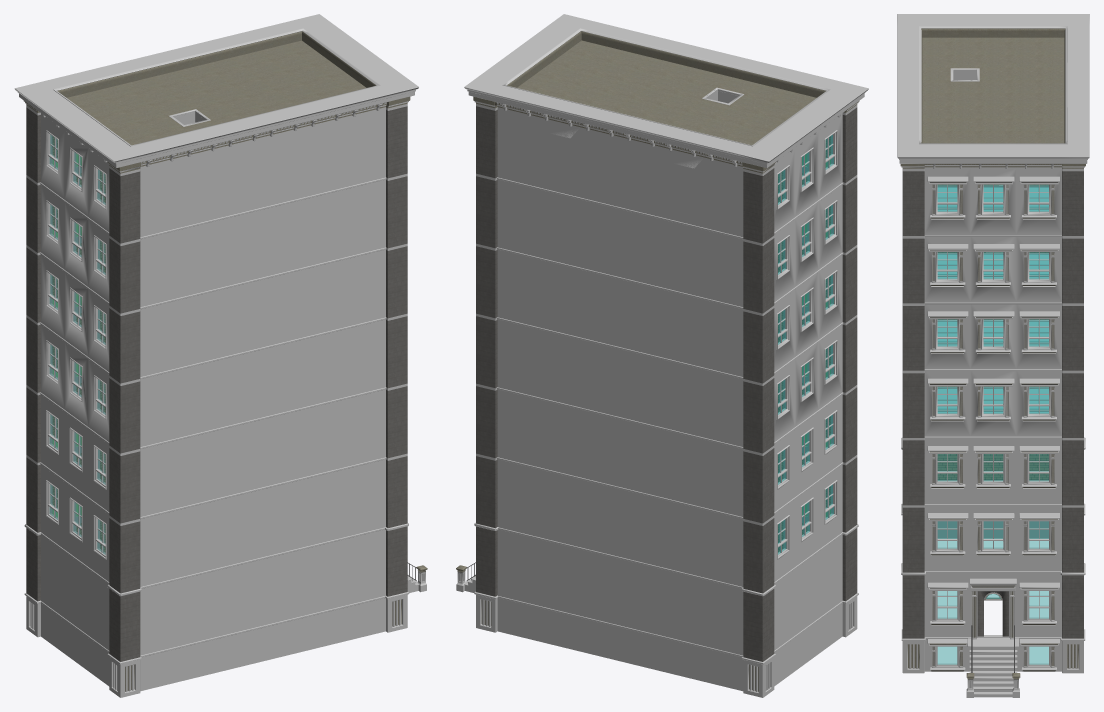
File: Building07_V02.fbx
The picture shows the model from 3 angles, left to right: view 1: azimuth 30°, elevation 25°; view 2: azimuth 150°, elevation 25°; view 3: azimuth 270°, elevation 25°; orthographic projection. The views are drawn at different scales.
Parts seen in each view (by area): view 1: SM_Building07_V02; view 2: SM_Building07_V02; view 3: SM_Building07_V02.
Boxes of the visible parts, bbox=[...] form: SM_Building07_V02: bbox=[14, 14, 427, 697]; SM_Building07_V02: bbox=[456, 14, 868, 697]; SM_Building07_V02: bbox=[897, 14, 1089, 697].
Bounding box in the file's own units: 2116 × 3134 × 1049.
